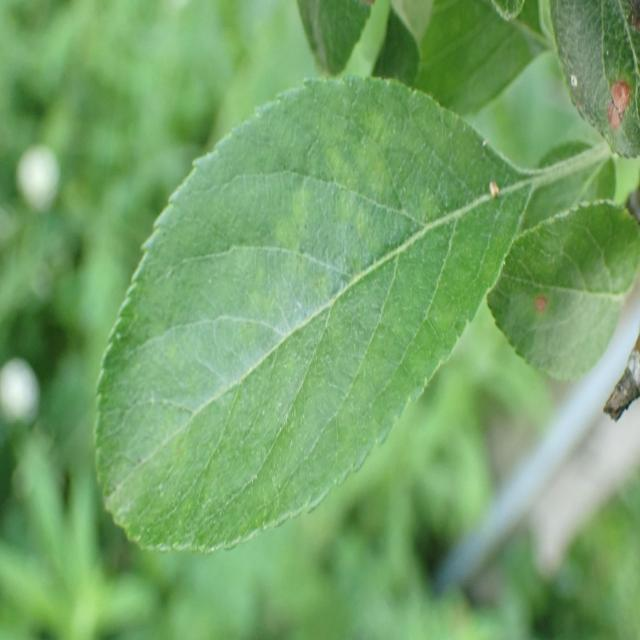scab: (114, 107, 516, 563)
